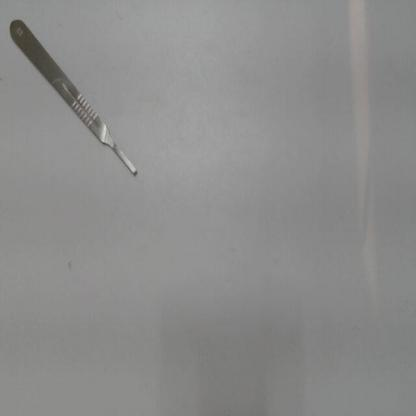No.4 BP Handle: (6, 11, 144, 183)
